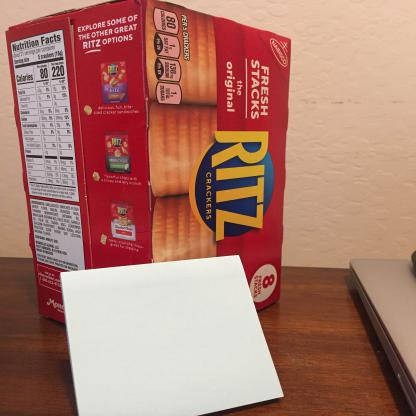RitzBox: (9, 12, 287, 281)
